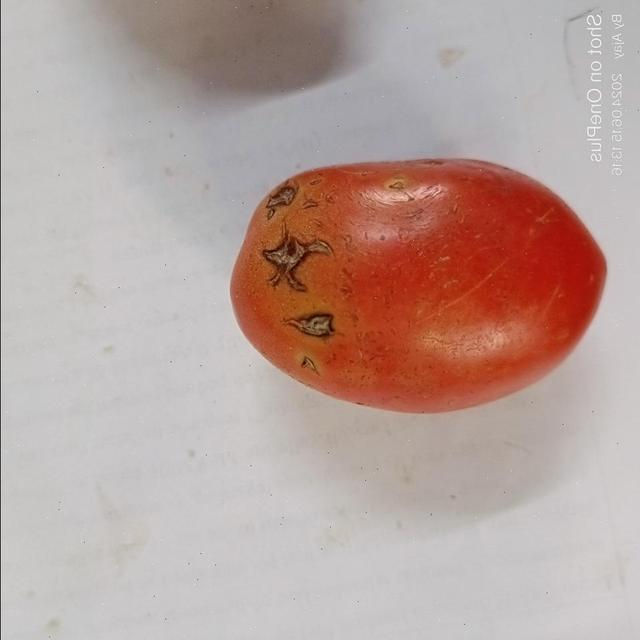Bacterial Spot Fruit: (27, 19, 206, 217)
